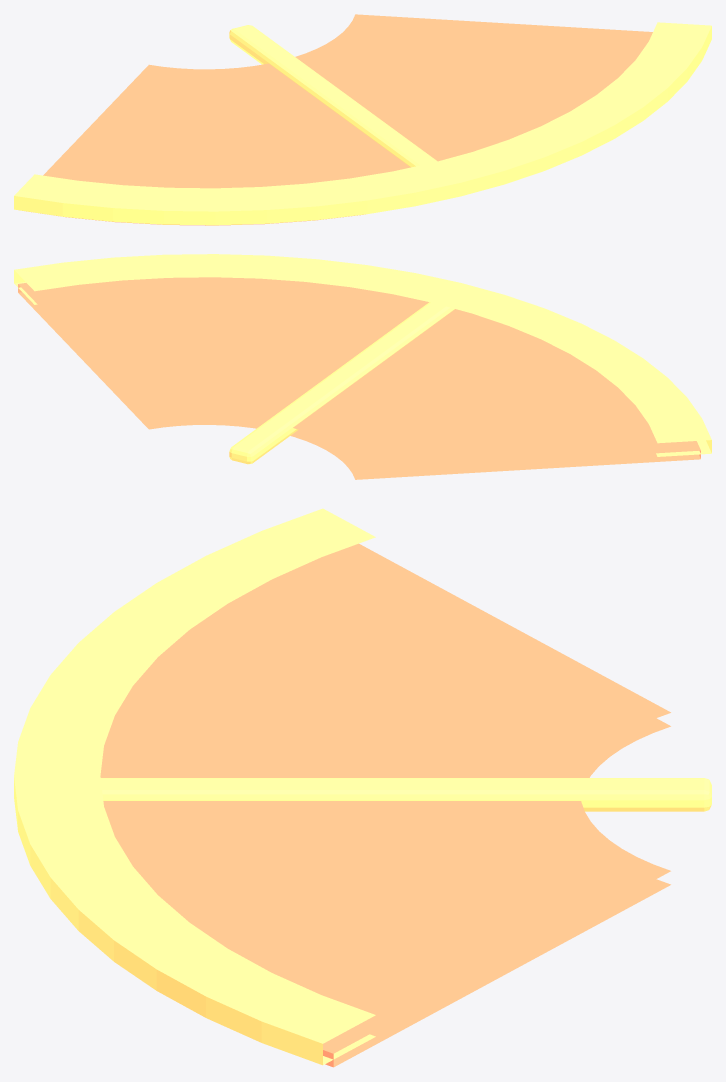
File: vfx_enemy_melee_telegraph_v0_7.glb
The picture shows the model from 3 angles, top to bottom: view 1: azimuth 30°, elevation 25°; view 2: azimuth 150°, elevation 25°; view 3: azimuth 270°, elevation 25°; orthographic projection. The views are drawn at different scales.
Parts seen in each view (by area): view 1: presentation_melee_warning_arc, presentation_melee_warning_edge, presentation_melee_strike_axis; view 2: presentation_melee_warning_arc, presentation_melee_warning_edge, presentation_melee_strike_axis; view 3: presentation_melee_warning_arc, presentation_melee_warning_edge, presentation_melee_strike_axis.
Part boxes in pixels (bbox=[...]): presentation_melee_warning_arc: bbox=[26, 14, 652, 225]; presentation_melee_warning_edge: bbox=[14, 22, 711, 225]; presentation_melee_strike_axis: bbox=[229, 25, 437, 167]; presentation_melee_warning_arc: bbox=[18, 277, 700, 479]; presentation_melee_warning_edge: bbox=[14, 254, 711, 456]; presentation_melee_strike_axis: bbox=[229, 302, 454, 464]; presentation_melee_warning_arc: bbox=[100, 543, 670, 1067]; presentation_melee_warning_edge: bbox=[14, 508, 375, 1065]; presentation_melee_strike_axis: bbox=[100, 778, 711, 811].
Size of the model in its own units: 2.93 by 0.075 by 1.62.
